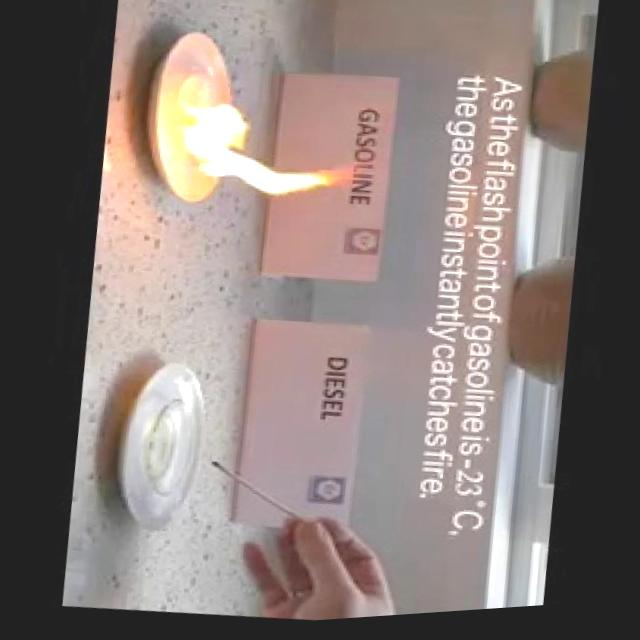helmet: (168, 86, 360, 221)
